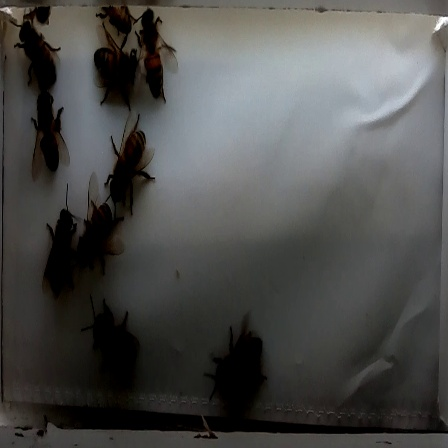bee: (190, 321, 284, 417), (71, 293, 149, 387), (93, 115, 159, 220), (4, 9, 67, 99), (65, 194, 127, 283), (130, 6, 184, 107), (20, 89, 75, 187), (36, 199, 80, 304), (87, 32, 141, 114)
